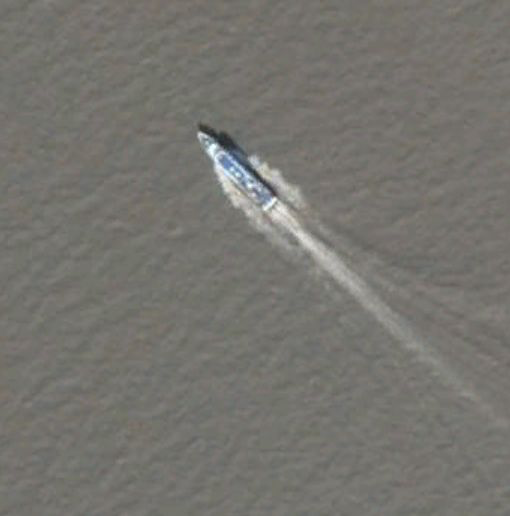boat: (193, 127, 280, 214)
